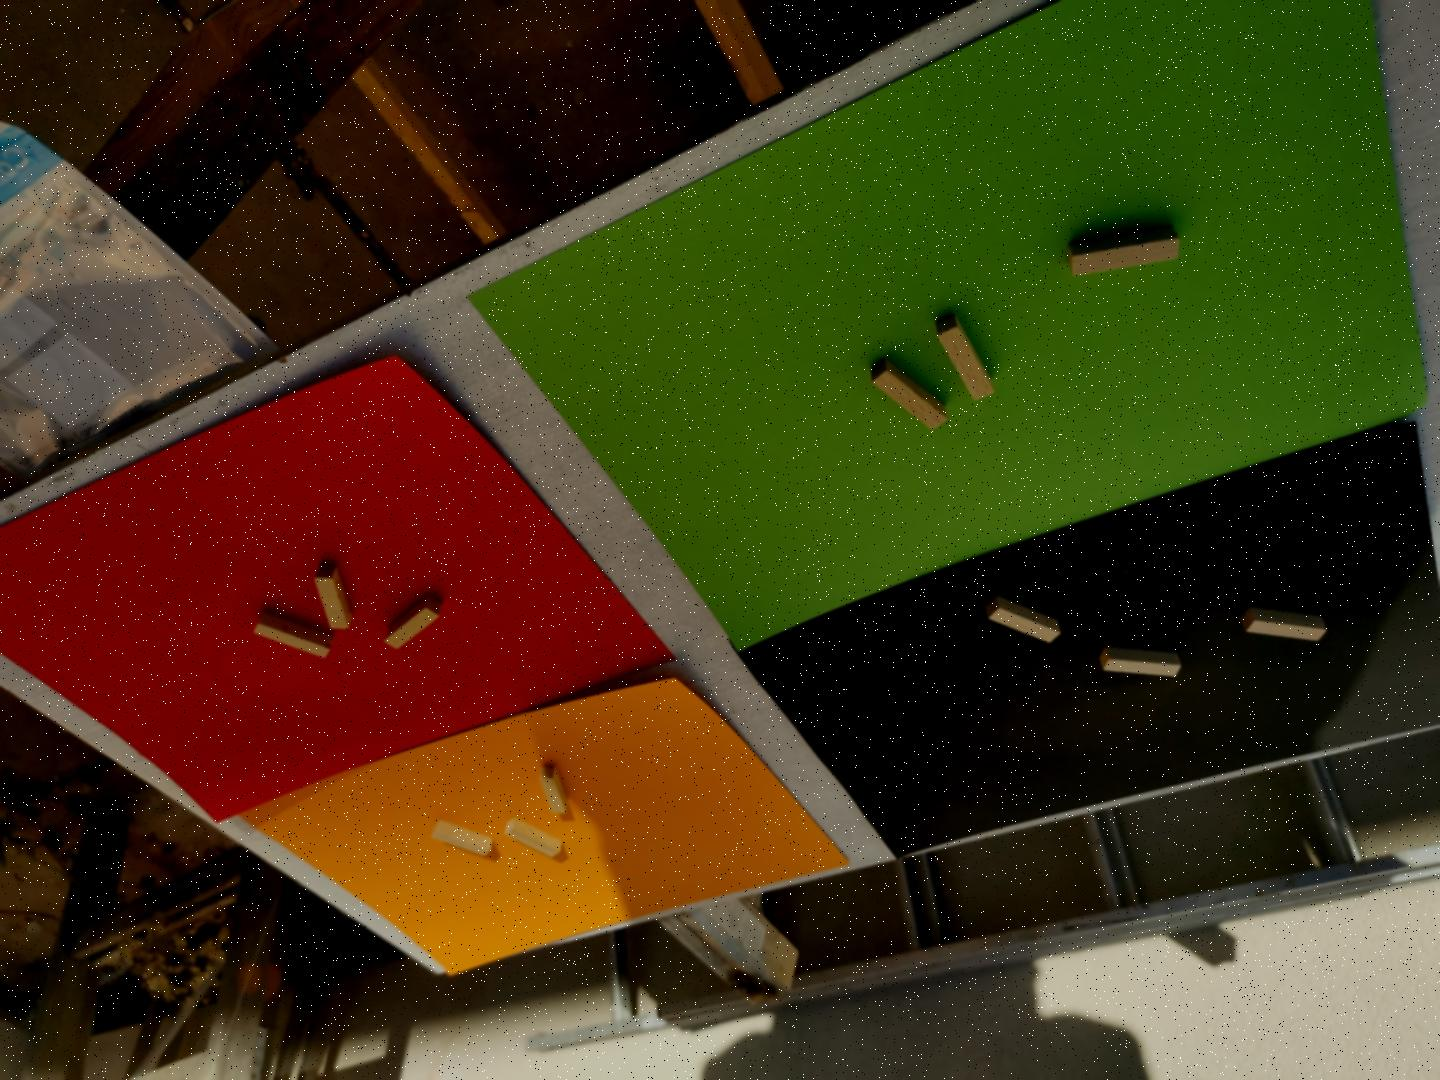jenga: (872, 360, 948, 430), (1069, 228, 1178, 276), (937, 315, 993, 399), (253, 613, 334, 658), (988, 597, 1060, 641), (386, 597, 441, 650), (1240, 608, 1324, 641), (1100, 647, 1181, 677), (315, 565, 351, 630), (503, 818, 562, 858), (433, 821, 492, 855), (540, 765, 568, 816)
